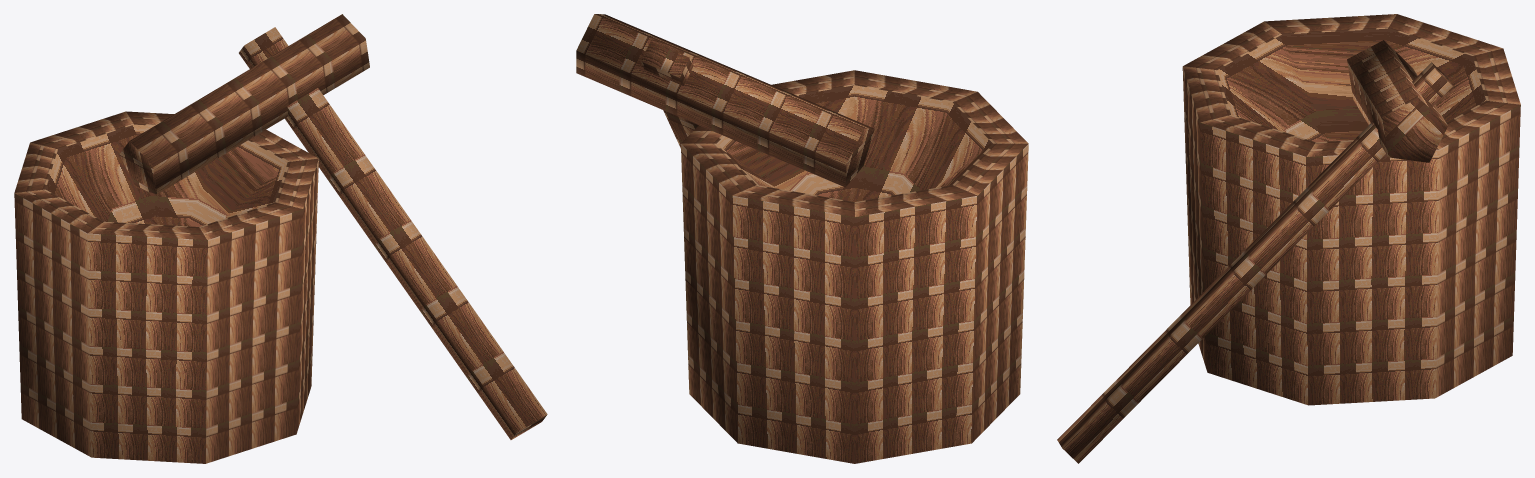
File: 3452IMSY01_14.gltf
3 renders of one model, left to right at view 1: azimuth 30°, elevation 25°; view 2: azimuth 150°, elevation 25°; view 3: azimuth 270°, elevation 25°, orthographic. The views are drawn at different scales.
Visible parts, largest first — view 1: 3452IMSY01_14; view 2: 3452IMSY01_14; view 3: 3452IMSY01_14.
Part boxes in pixels (bbox=[...]): 3452IMSY01_14: bbox=[14, 14, 547, 463]; 3452IMSY01_14: bbox=[576, 14, 1028, 463]; 3452IMSY01_14: bbox=[1057, 14, 1520, 463].
Bounding box in the file's own units: 0.9426 × 0.7417 × 0.8872.
Materials: 1 (1 with a texture image).
